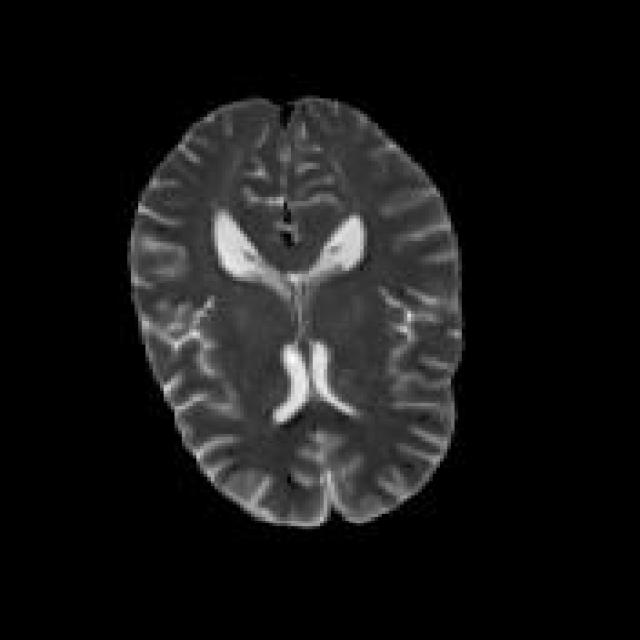CONTROL: (123, 92, 466, 526)
